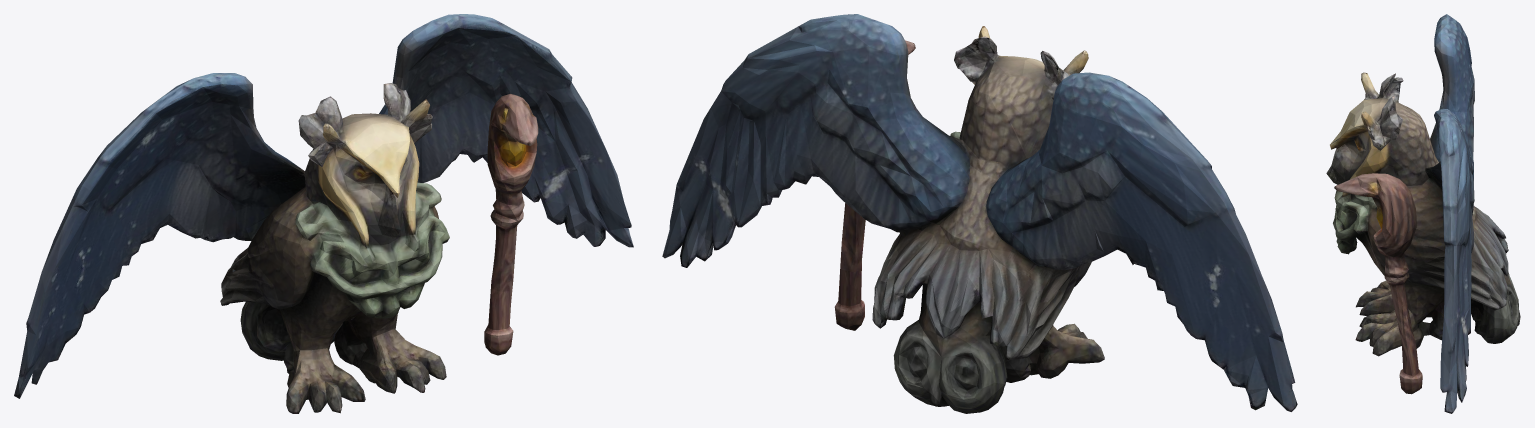
Rendered from nightveil__athenaNoctua.glb.
3 views of the same model, side by side, from view 1: azimuth 30°, elevation 25°; view 2: azimuth 150°, elevation 25°; view 3: azimuth 270°, elevation 25° (orthographic). The views are drawn at different scales.
Visible parts, largest first — view 1: world; view 2: world; view 3: world.
Boxes of the visible parts, x1=… form: world: x1=14, y1=14, x2=633, y2=413; world: x1=662, y1=14, x2=1297, y2=413; world: x1=1326, y1=14, x2=1520, y2=413.
Bounding box in the file's own units: 1 × 0.516 × 0.3392.
Materials: 1 (1 with a texture image).
